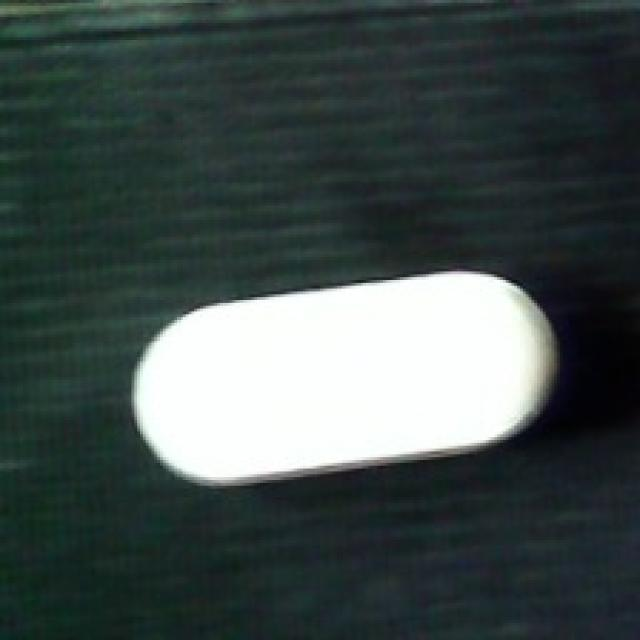no-defect: (128, 271, 563, 486)
